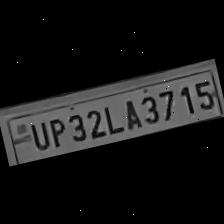1: (172, 80, 196, 117)
2: (80, 103, 106, 140)
3: (134, 90, 162, 127), (63, 108, 89, 143)
5: (188, 74, 220, 112)
7: (154, 86, 179, 122)
A: (118, 94, 144, 130)
L: (98, 98, 124, 134)
P: (44, 113, 68, 149)
U: (24, 116, 52, 152)
